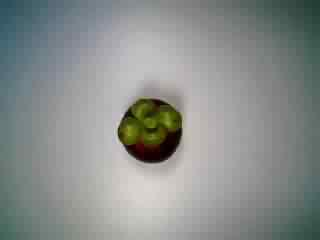mangosteen: (110, 89, 191, 174)
